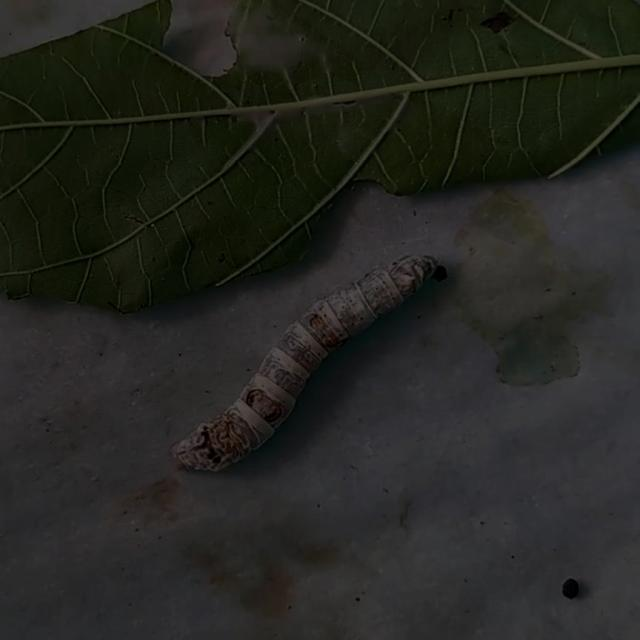Grasserie: (153, 236, 462, 510)
